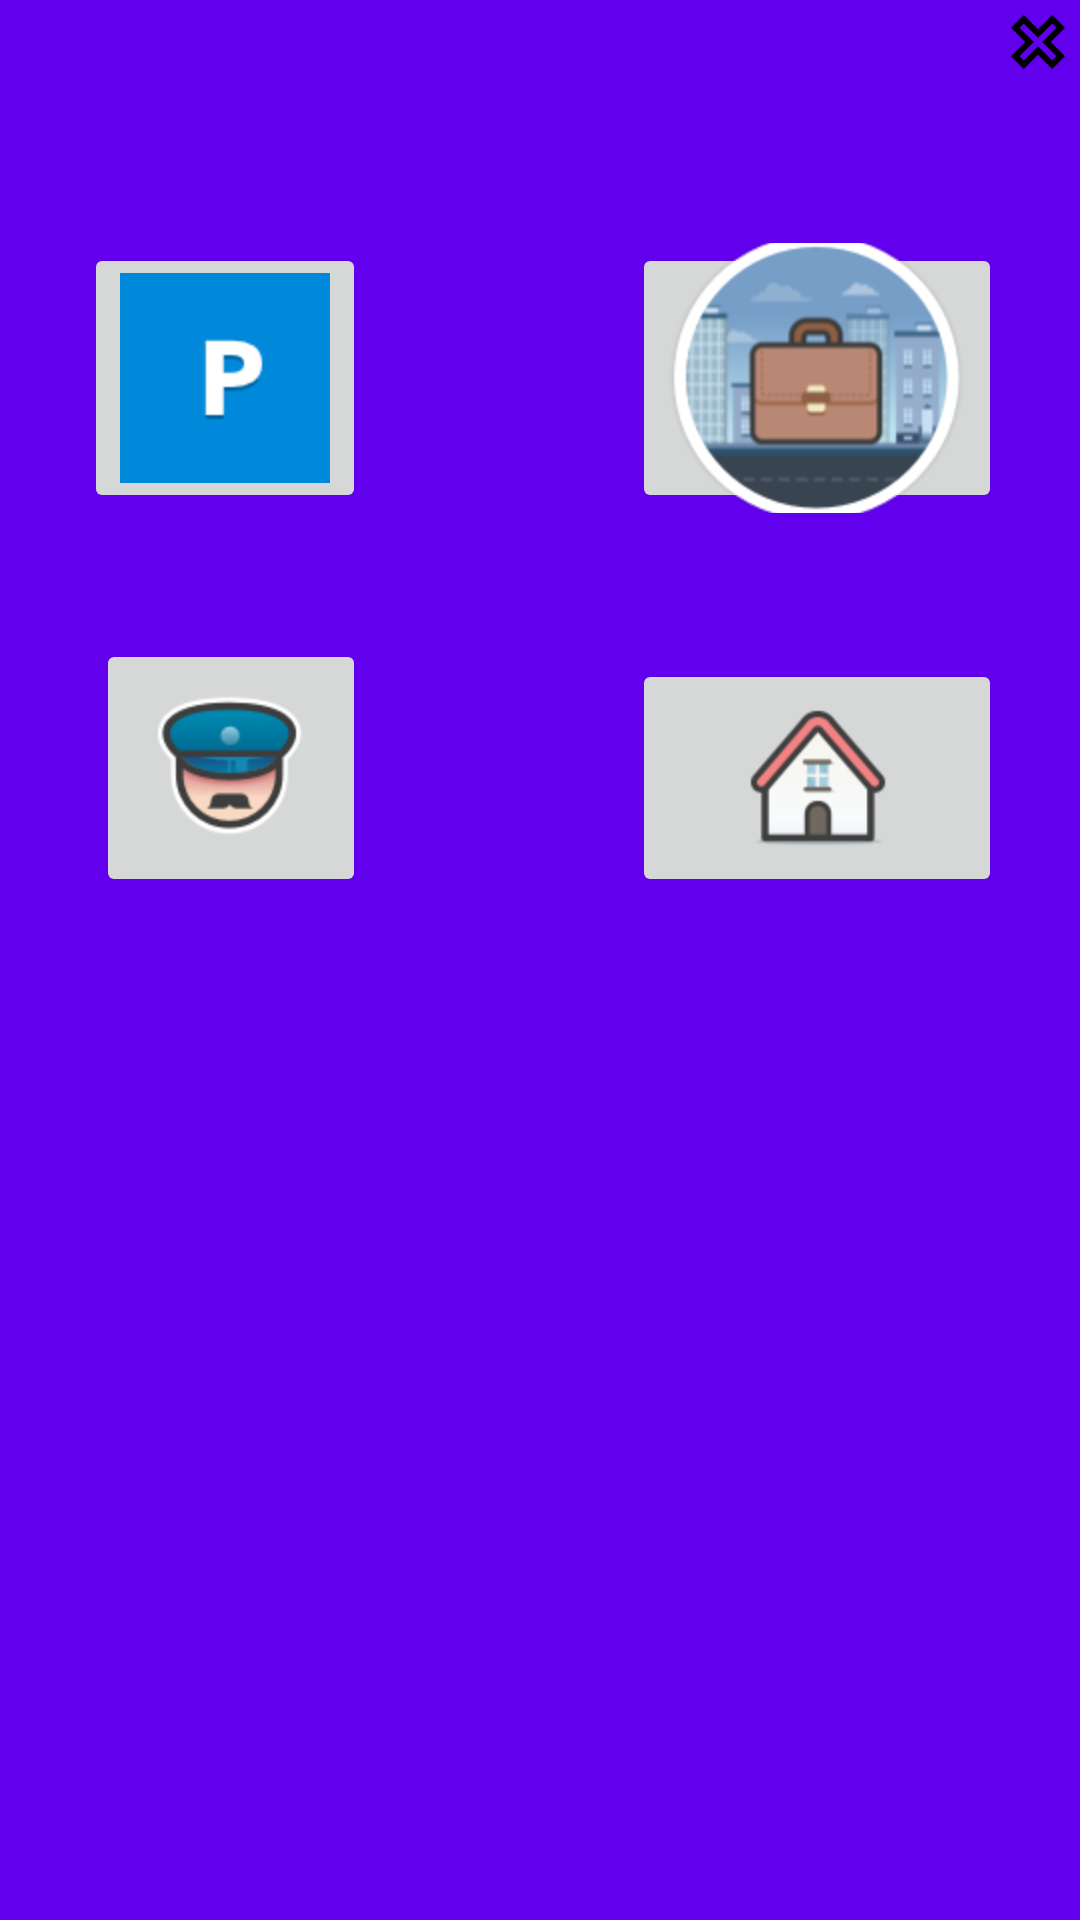

Screen size 1080px×1920px. Icon name, then its center in pixels as (x=x, y=y):
close: (x=1038, y=42)
home: (x=817, y=778)
parking: (x=225, y=378)
popuppoliceicon: (x=231, y=768)
work: (x=817, y=378)
